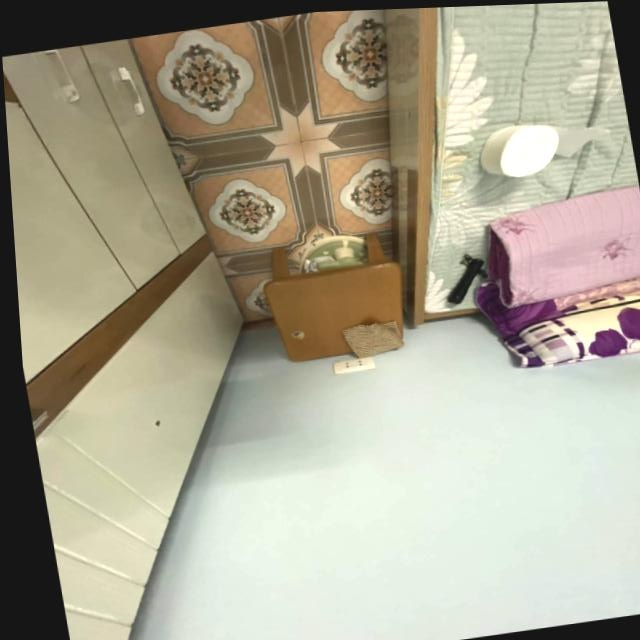outlet: (333, 355, 377, 374)
